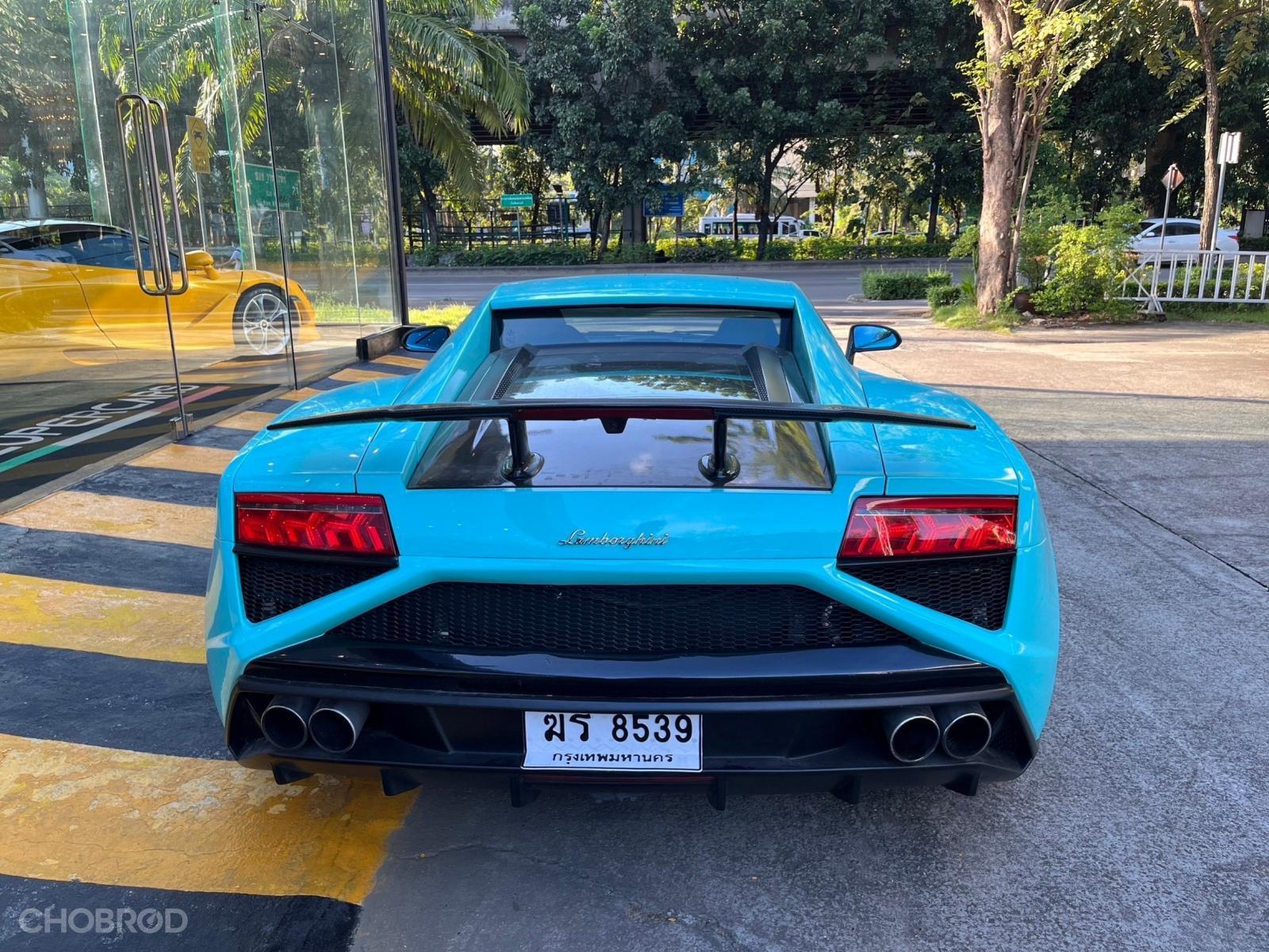license-plate: (521, 709, 707, 777)
